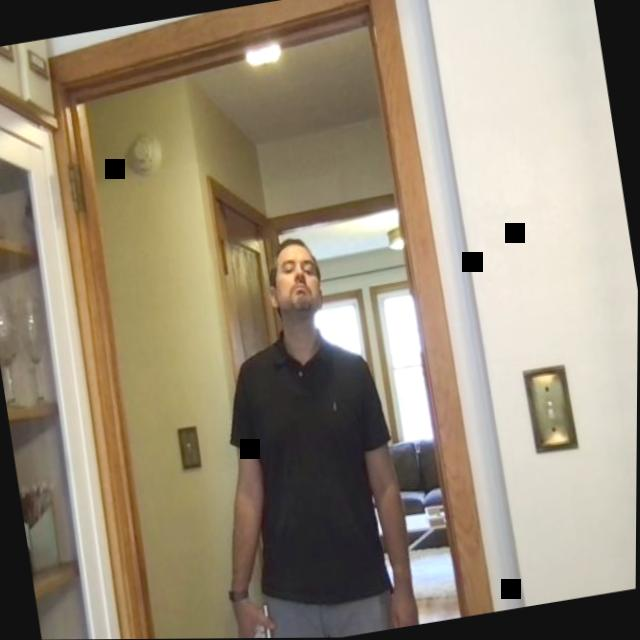NO-Mask: (262, 234, 329, 324)
